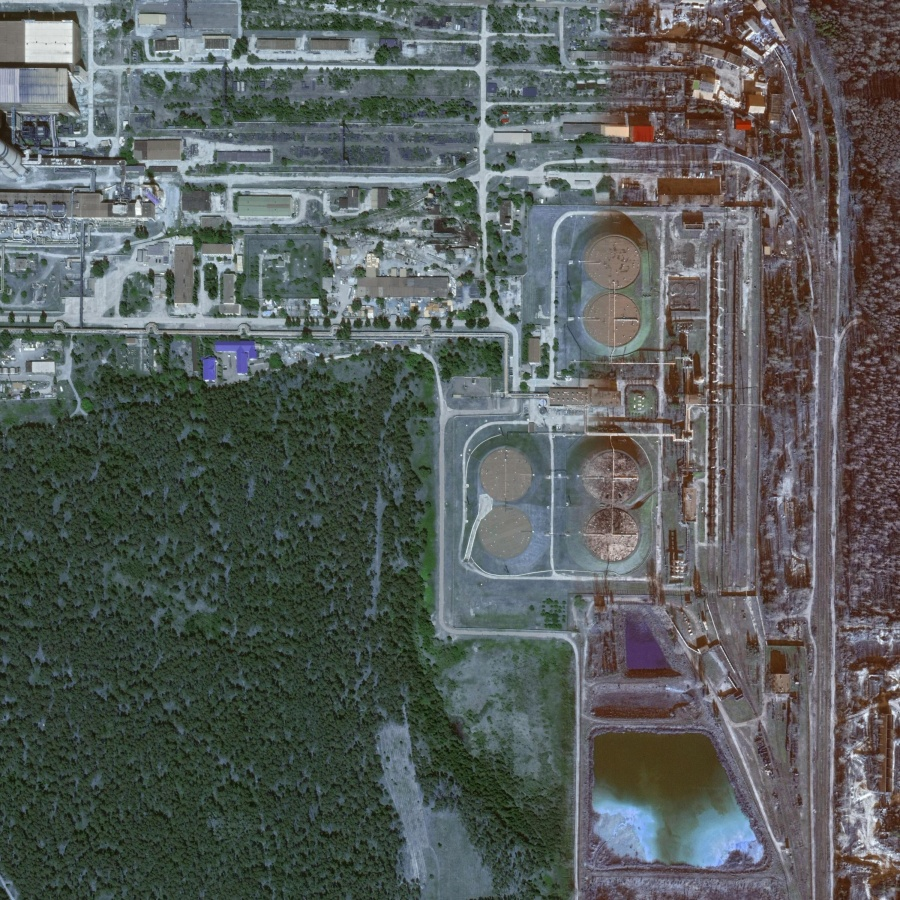PowerPlant: (439, 223, 687, 586)
